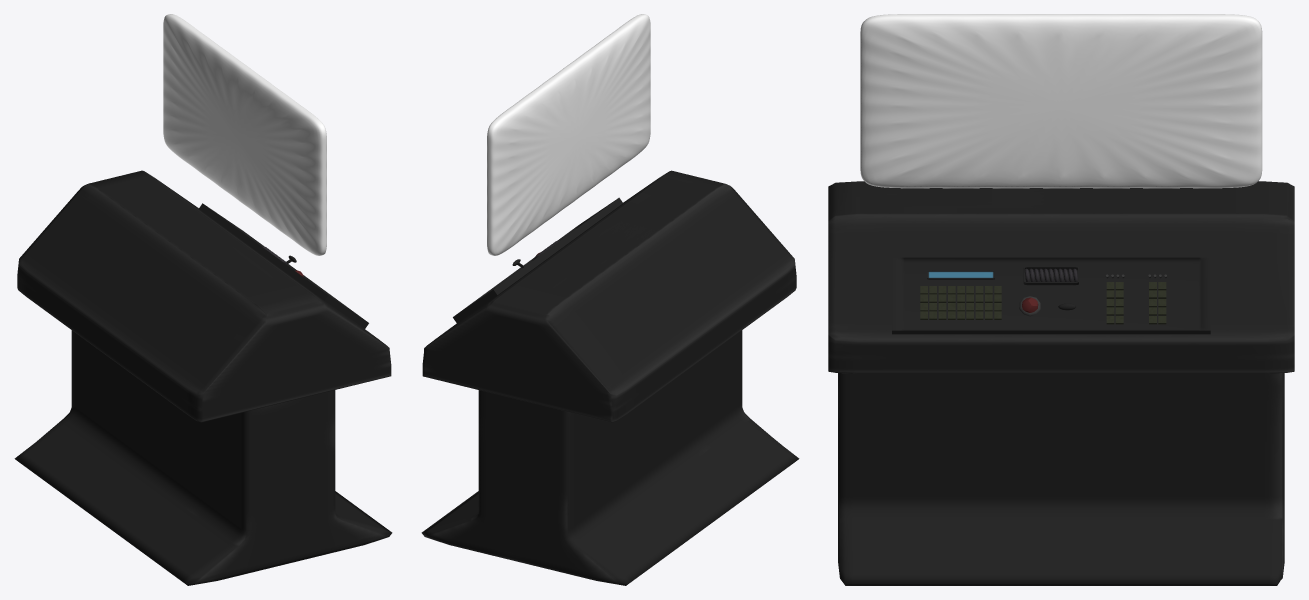
Rendered from Console.fbx.
The picture shows the model from 3 angles, left to right: view 1: azimuth 30°, elevation 25°; view 2: azimuth 150°, elevation 25°; view 3: azimuth 270°, elevation 25°; orthographic projection. The views are drawn at different scales.
Visible parts, largest first — view 1: Console; view 2: Console; view 3: Console.
Boxes of the visible parts, <box> form: Console: <box>14,14,392,585</box>; Console: <box>421,14,799,585</box>; Console: <box>828,14,1294,585</box>.
Size of the model in its own units: 85.21 by 131 by 166.
